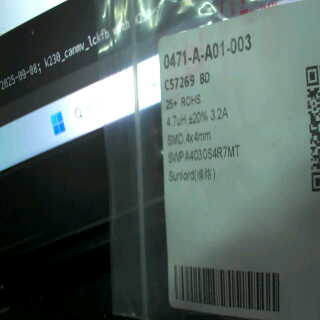4.7uH: (163, 113, 187, 127)
